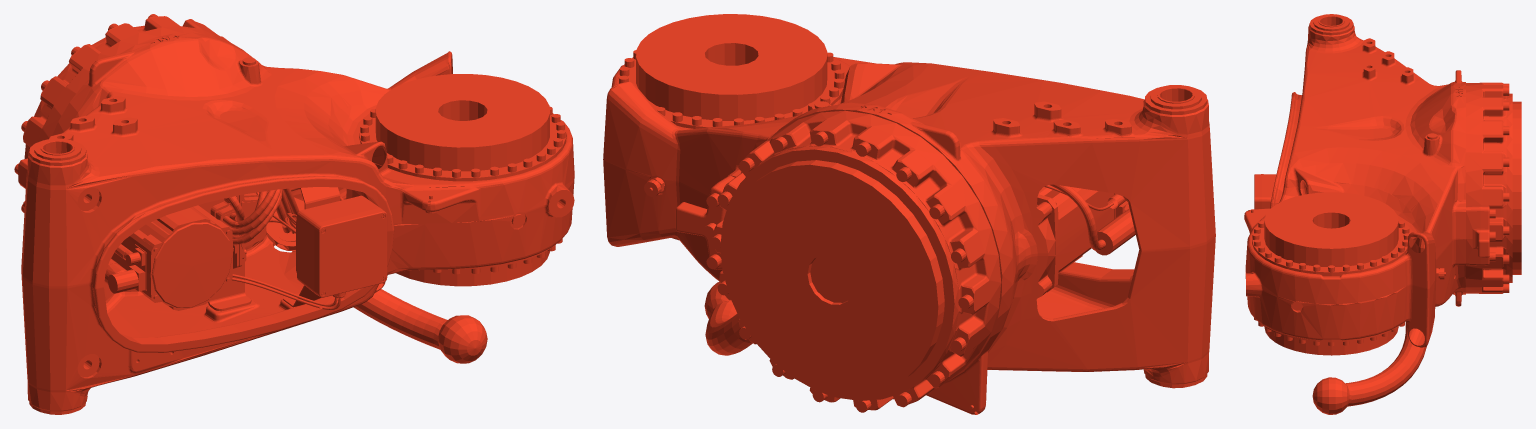
3 views of the same model, side by side, from view 1: azimuth 30°, elevation 25°; view 2: azimuth 150°, elevation 25°; view 3: azimuth 270°, elevation 25° (orthographic). The views are drawn at different scales.
Bounding box in the file's own units: 1.24 × 0.6995 × 0.7294.
